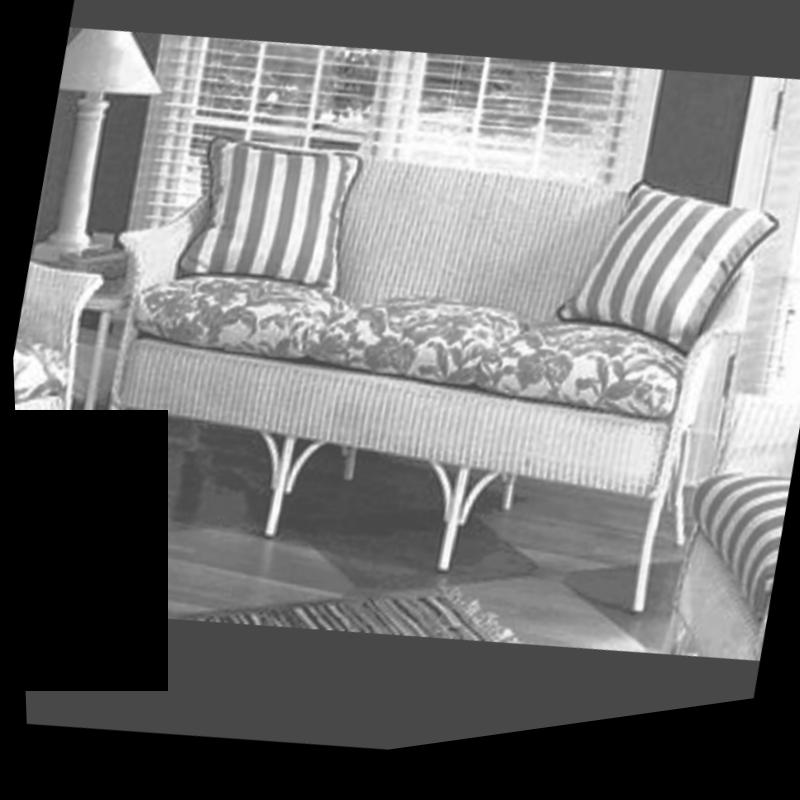pillow: (546, 183, 783, 392), (167, 116, 367, 321)
